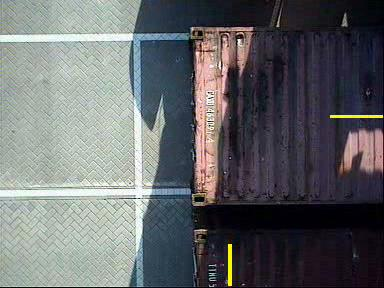groundmarker_2: (118, 177, 212, 256)
